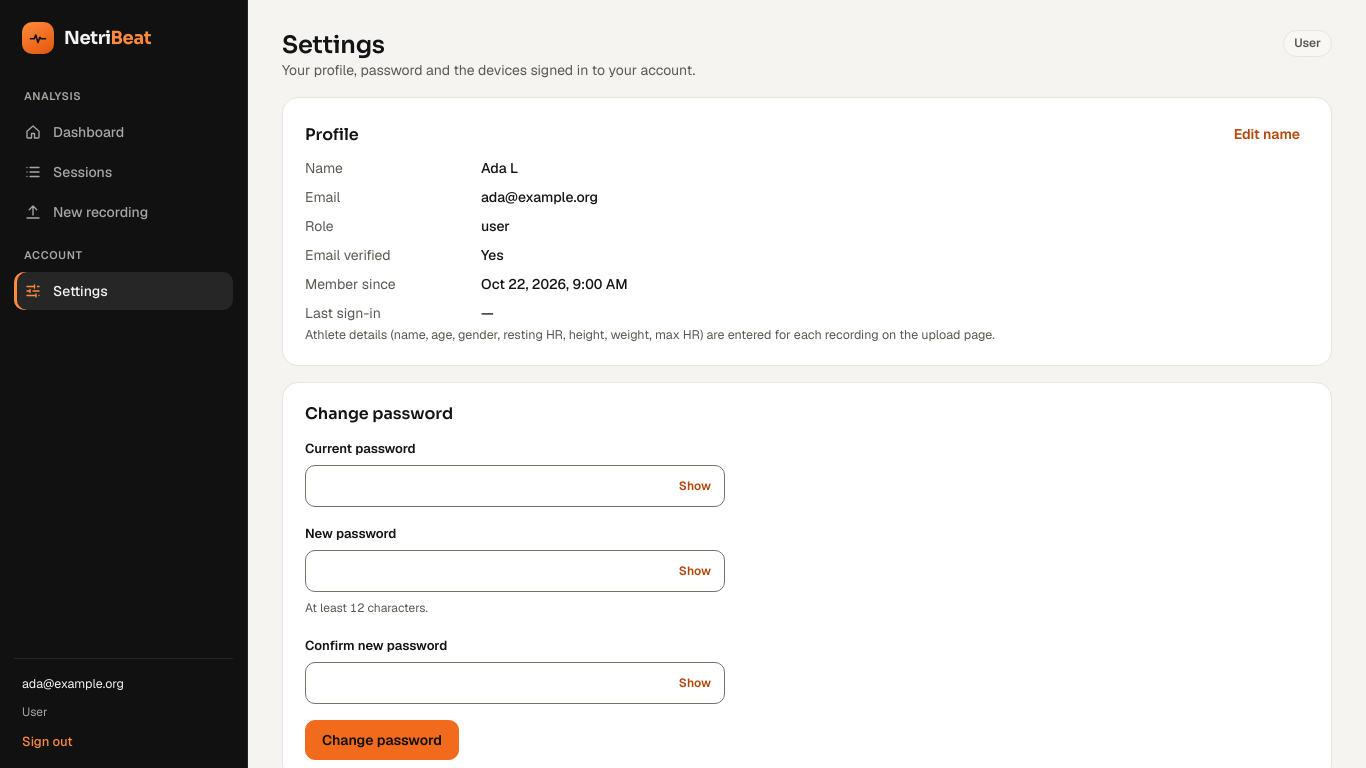
it: security page › change password validates and reports server errors on the right field
The image size is (1366, 768).
Click the button "Change password": (382, 740) [305,720,459,760]
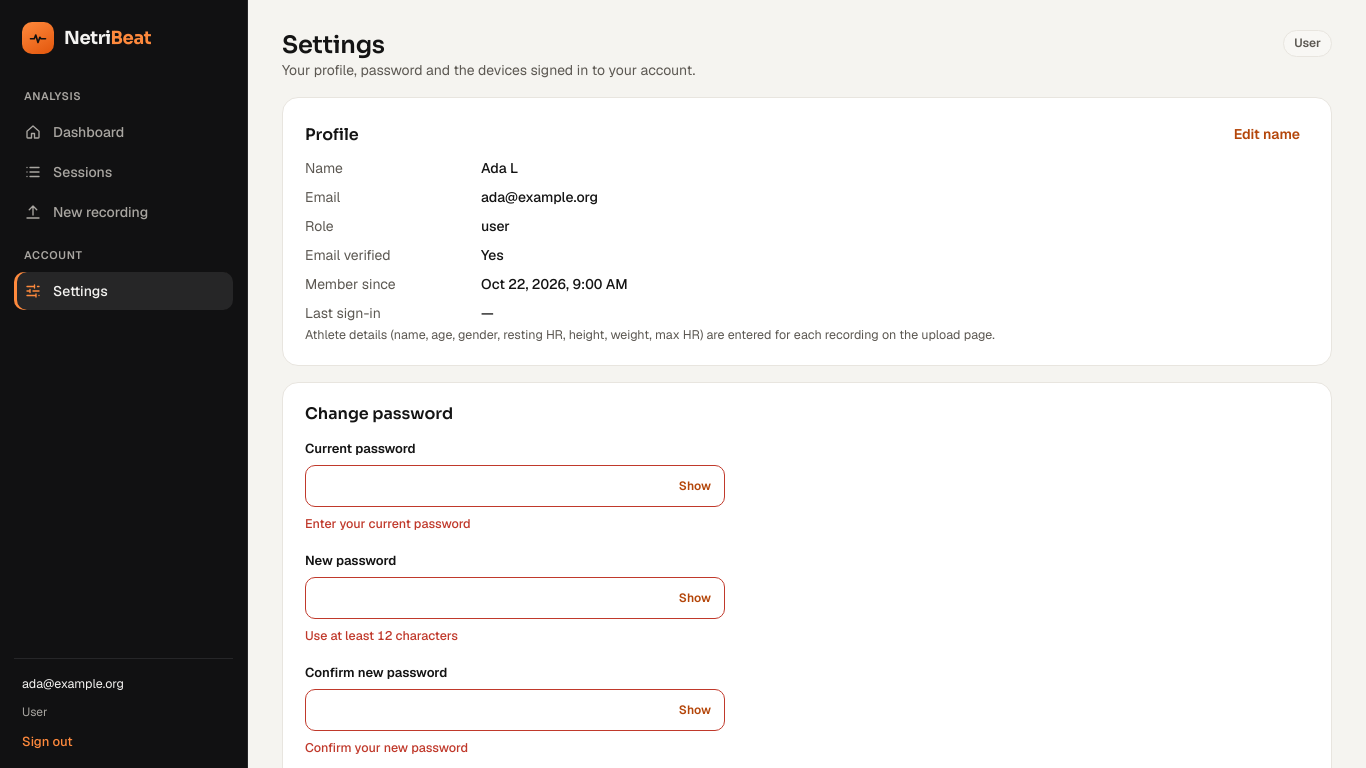
Expected: the text "Enter your current password" is shown, [305,515,471,532]
In the password field labelled "Current password": (515, 486) [305,465,725,507], type "wrong one"
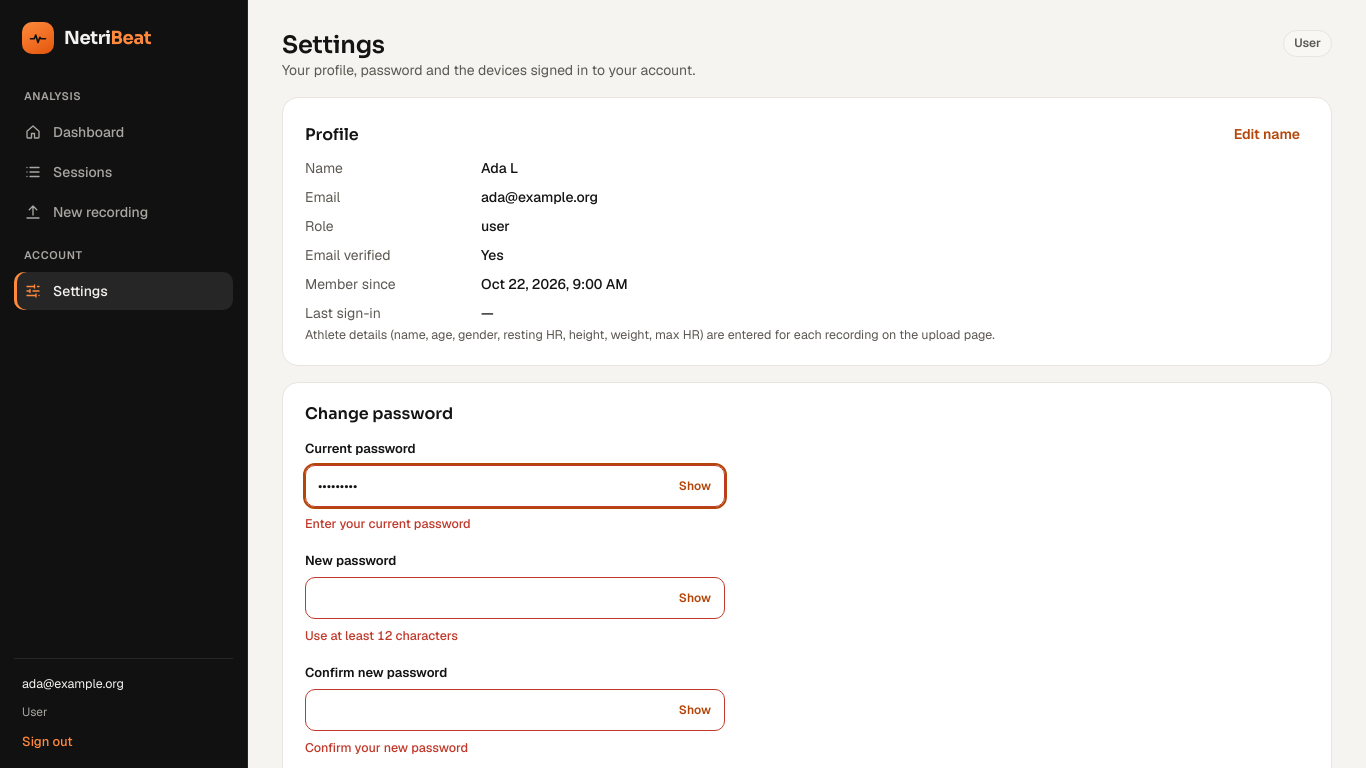
In the password field labelled "New password": (515, 598) [305,577,725,619], type "violet kettle orbit 4219"
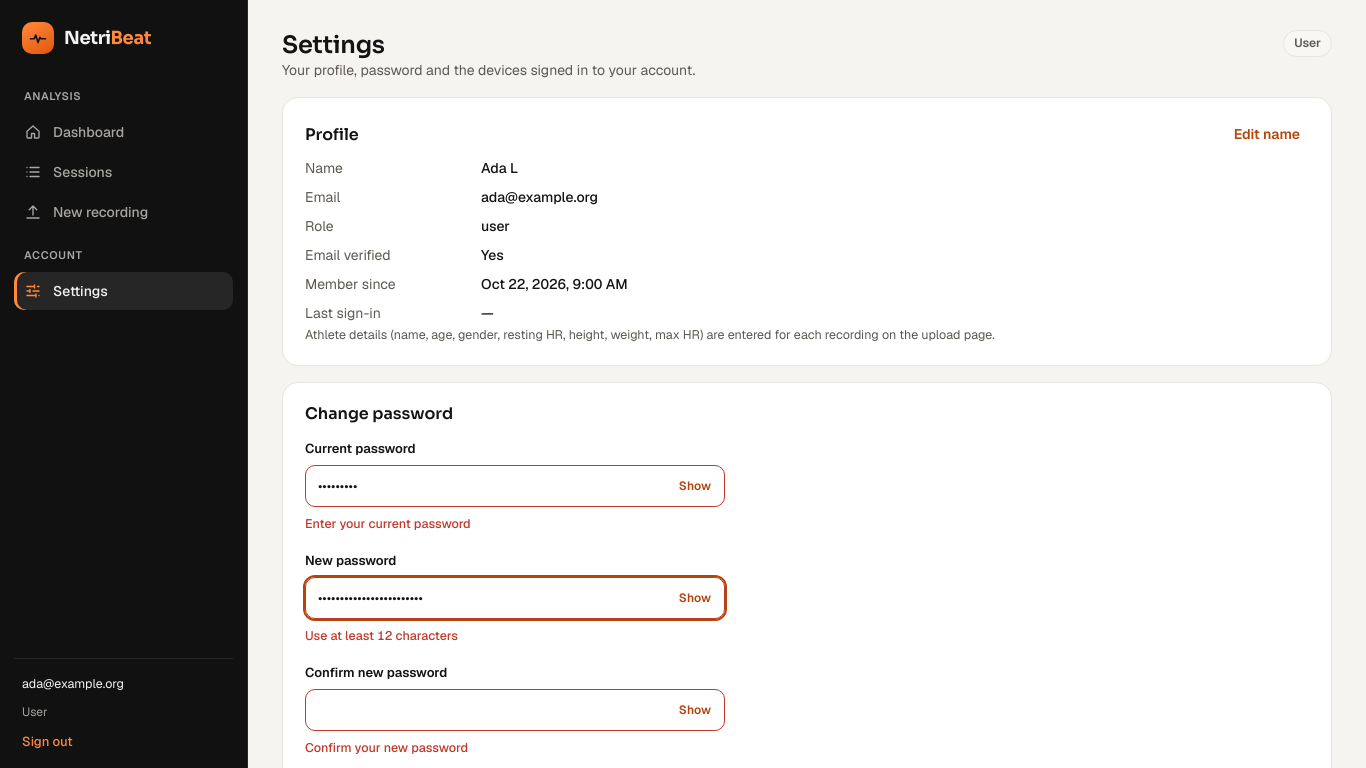
In the password field labelled "Confirm new password": (515, 710) [305,689,725,731], type "violet kettle orbit 4219"
(page scrolled)
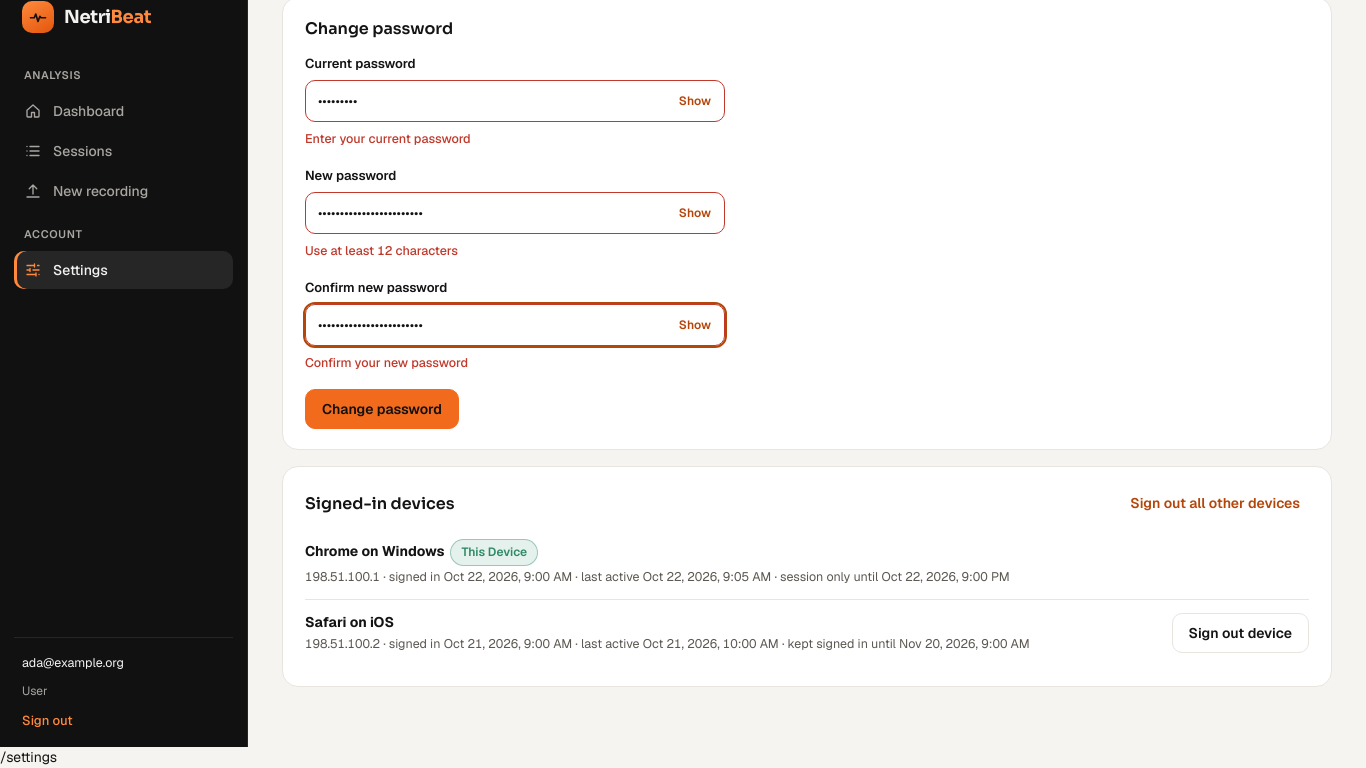
Click the button "Change password": (382, 409) [305,389,459,429]
(page scrolled)
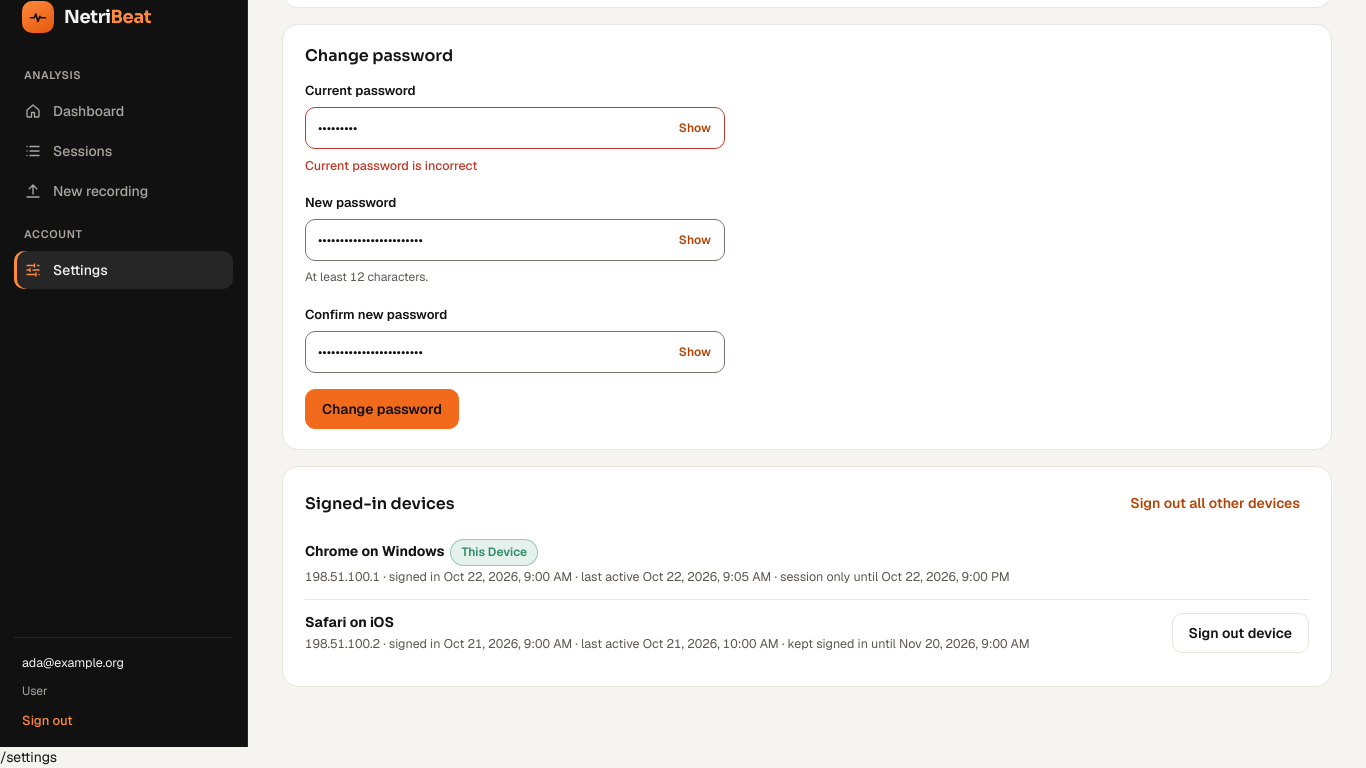
Expected: the text "Current password is incorrect" is shown, [305,157,477,174]
